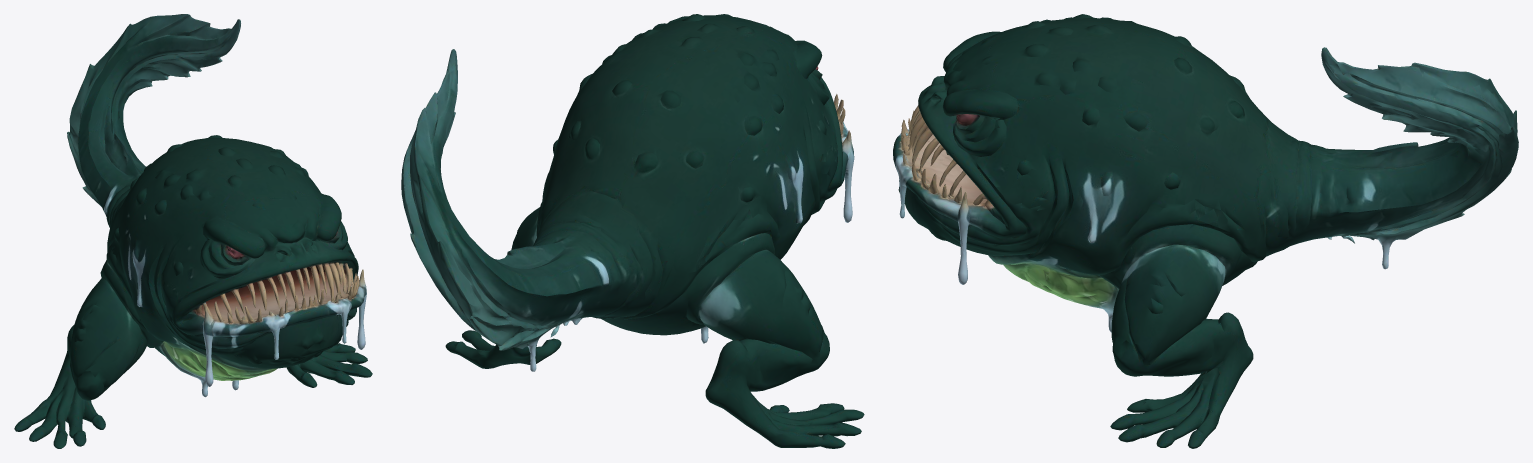
File: tetard-v2.glb
3 renders of one model, left to right at view 1: azimuth 30°, elevation 25°; view 2: azimuth 150°, elevation 25°; view 3: azimuth 270°, elevation 25°, orthographic. The views are drawn at different scales.
Visible parts, largest first — view 1: Mesh; view 2: Mesh; view 3: Mesh.
Boxes of the visible parts, <box> form: Mesh: <box>14,14,372,448</box>; Mesh: <box>401,14,864,448</box>; Mesh: <box>893,14,1518,448</box>.
Size of the model in its own units: 1.39 by 1.21 by 1.86.
Materials: 1 (1 with a texture image).
